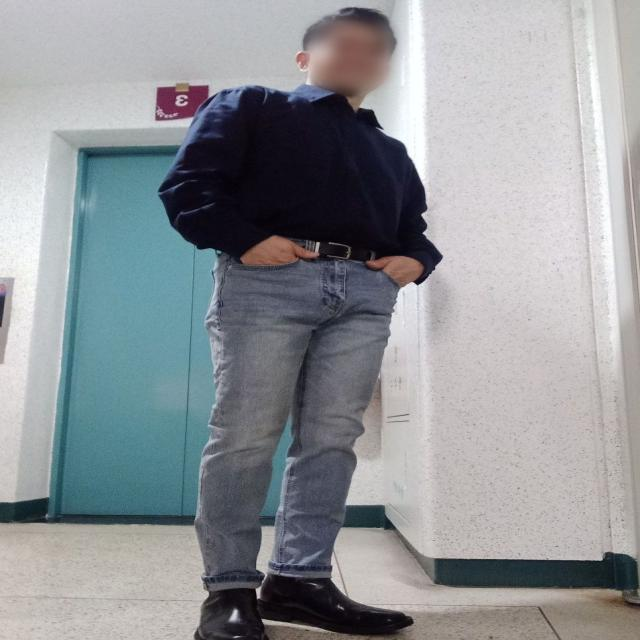denimpants: (191, 245, 401, 597)
shirt: (159, 87, 447, 276)
